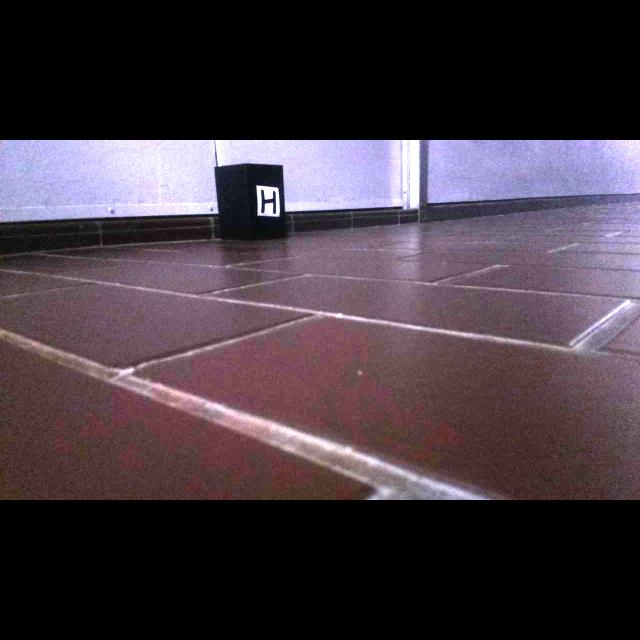H: (261, 189, 276, 214)
